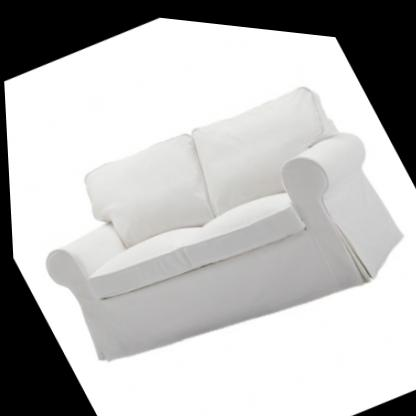Sofa: (1, 31, 416, 416)
